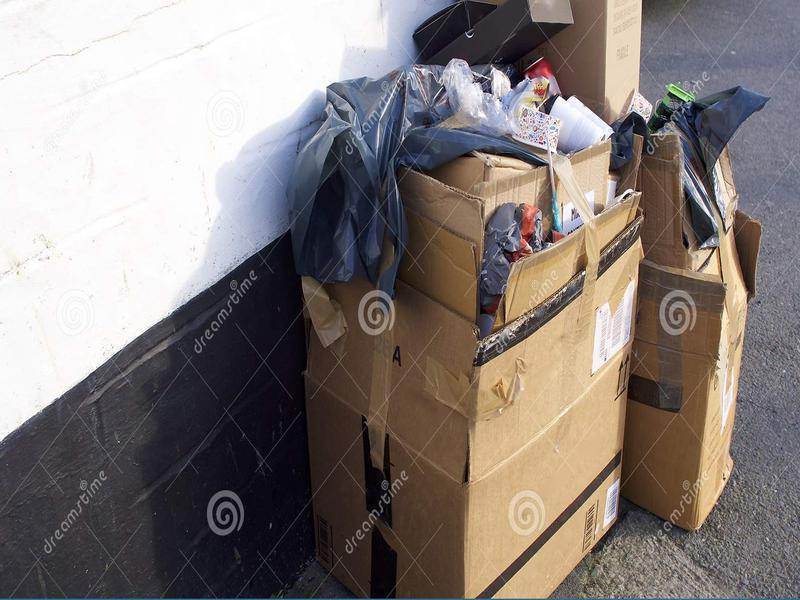cardboard: (297, 245, 645, 599), (624, 133, 765, 526), (406, 147, 640, 328)
plastic: (289, 55, 448, 296), (680, 74, 771, 234), (437, 50, 535, 137)
